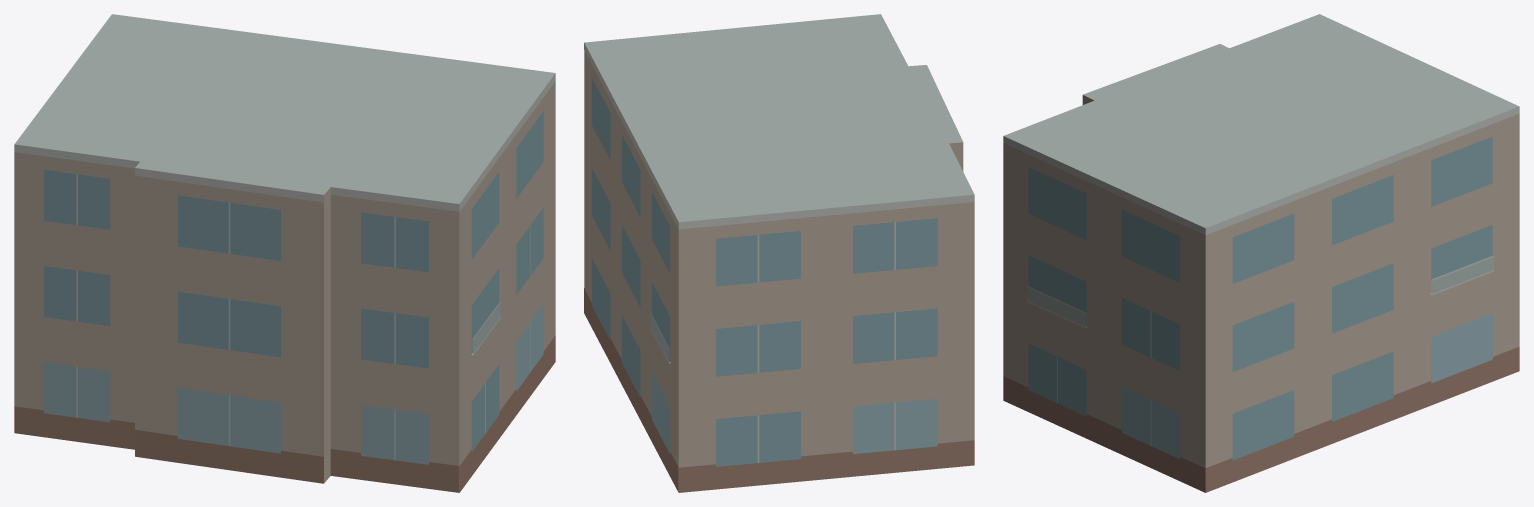
The model's file is survey-upis-32992625.glb.
3 views of the same model, side by side, from view 1: azimuth 30°, elevation 25°; view 2: azimuth 150°, elevation 25°; view 3: azimuth 270°, elevation 25° (orthographic). The views are drawn at different scales.
Visible parts, largest first — view 1: survey-upis-32992625.tmp; view 2: survey-upis-32992625.tmp; view 3: survey-upis-32992625.tmp.
Part boxes in pixels (<box>): survey-upis-32992625.tmp: <box>14,14,555,492</box>; survey-upis-32992625.tmp: <box>584,14,974,492</box>; survey-upis-32992625.tmp: <box>1003,14,1519,492</box>.
Bounding box in the file's own units: 15.89 × 9.15 × 16.18.
